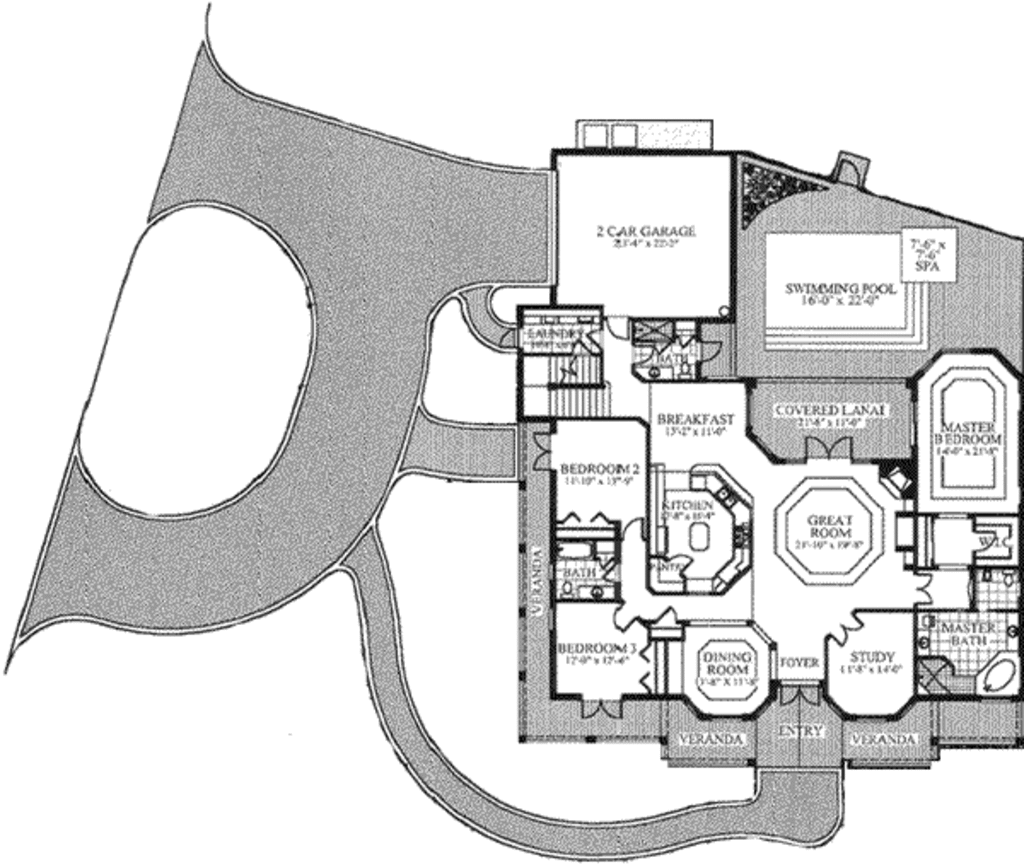door: (800, 432, 854, 467), (824, 611, 864, 649), (573, 694, 622, 723), (774, 684, 822, 713), (528, 428, 554, 476), (911, 570, 939, 609), (607, 604, 635, 631), (617, 516, 643, 543)
stairs: (545, 357, 613, 417)
tub: (977, 652, 1018, 700)
